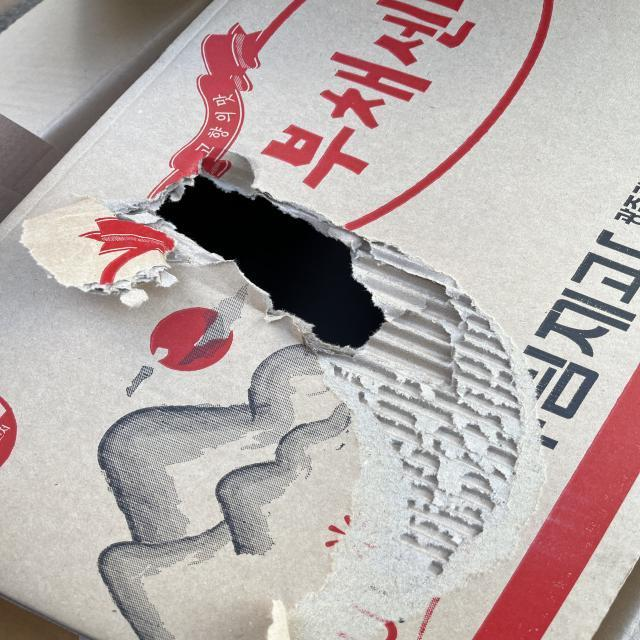damaged: (132, 160, 397, 357)
